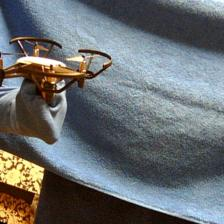drone: (0, 31, 112, 106)
